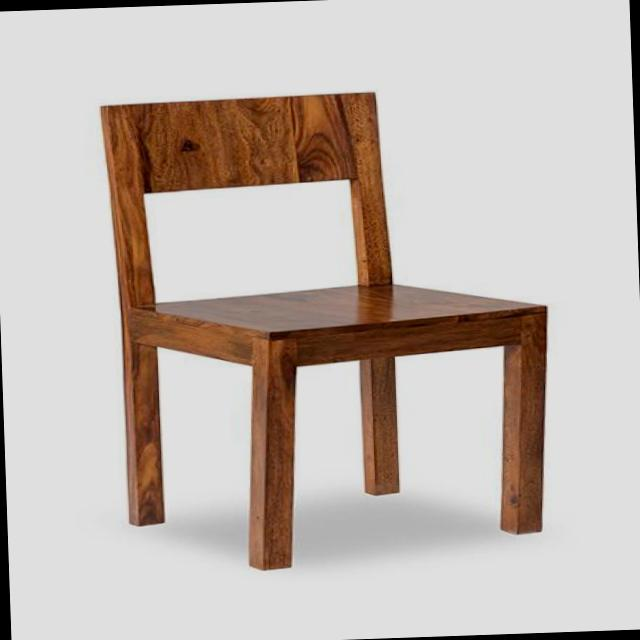obstacle: (46, 46, 572, 603)
